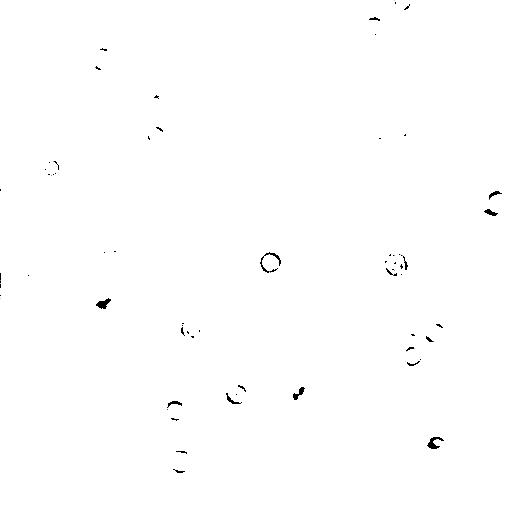micro-algae: (84, 288, 120, 320), (293, 386, 324, 419), (98, 239, 127, 273), (9, 249, 41, 277), (107, 293, 134, 323), (482, 189, 511, 216), (384, 250, 410, 279), (89, 46, 116, 73), (167, 449, 196, 474), (146, 124, 173, 150), (470, 211, 498, 234), (9, 302, 34, 327), (179, 317, 203, 342), (422, 320, 446, 344), (224, 382, 249, 405), (362, 15, 386, 38), (260, 250, 284, 273), (399, 316, 424, 337), (402, 130, 425, 152), (286, 377, 308, 399), (165, 400, 188, 420), (362, 134, 386, 153), (163, 262, 185, 282), (403, 346, 423, 368), (42, 156, 60, 176), (297, 14, 317, 31), (426, 436, 447, 450), (433, 349, 451, 365), (391, 1, 415, 12), (383, 504, 409, 511)
